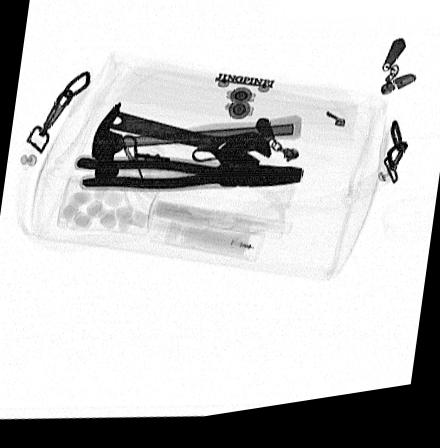Hammer: (91, 107, 300, 184)
Pliers: (74, 157, 302, 194)
Wrench: (101, 113, 270, 183)
